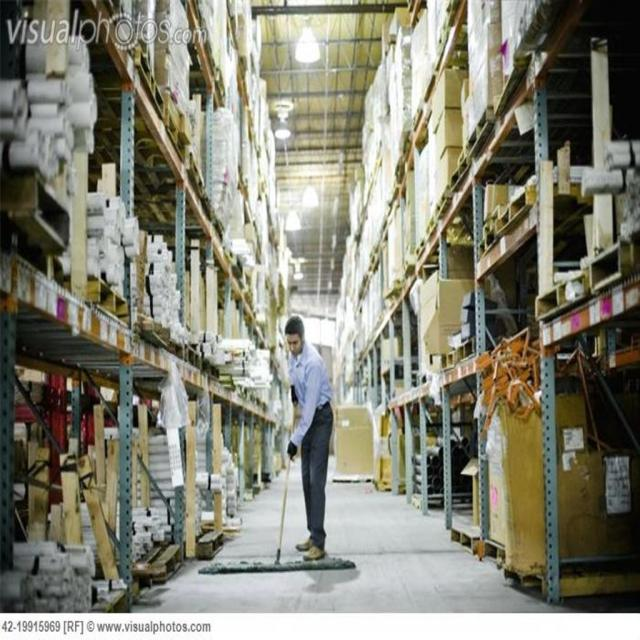nomask: (286, 333, 302, 353)
